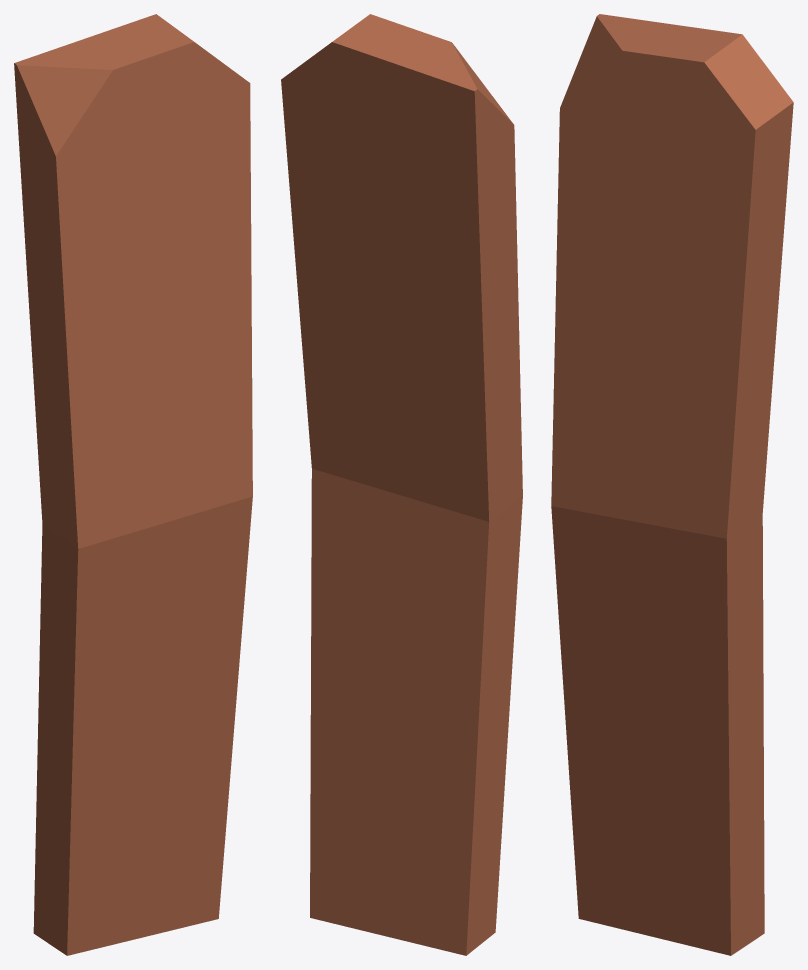
The model's file is Plank 08.fbx.
The picture shows the model from 3 angles, left to right: view 1: azimuth 30°, elevation 25°; view 2: azimuth 150°, elevation 25°; view 3: azimuth 330°, elevation 25°; orthographic projection.
Parts seen in each view (by area): view 1: Plank 09.001; view 2: Plank 09.001; view 3: Plank 09.001.
Part boxes in pixels (x1,y1,x2,y2): Plank 09.001: (14,14,252,955); Plank 09.001: (281,14,522,955); Plank 09.001: (551,14,793,955).
Size of the model in its own units: 23.57 by 102 by 11.7.
